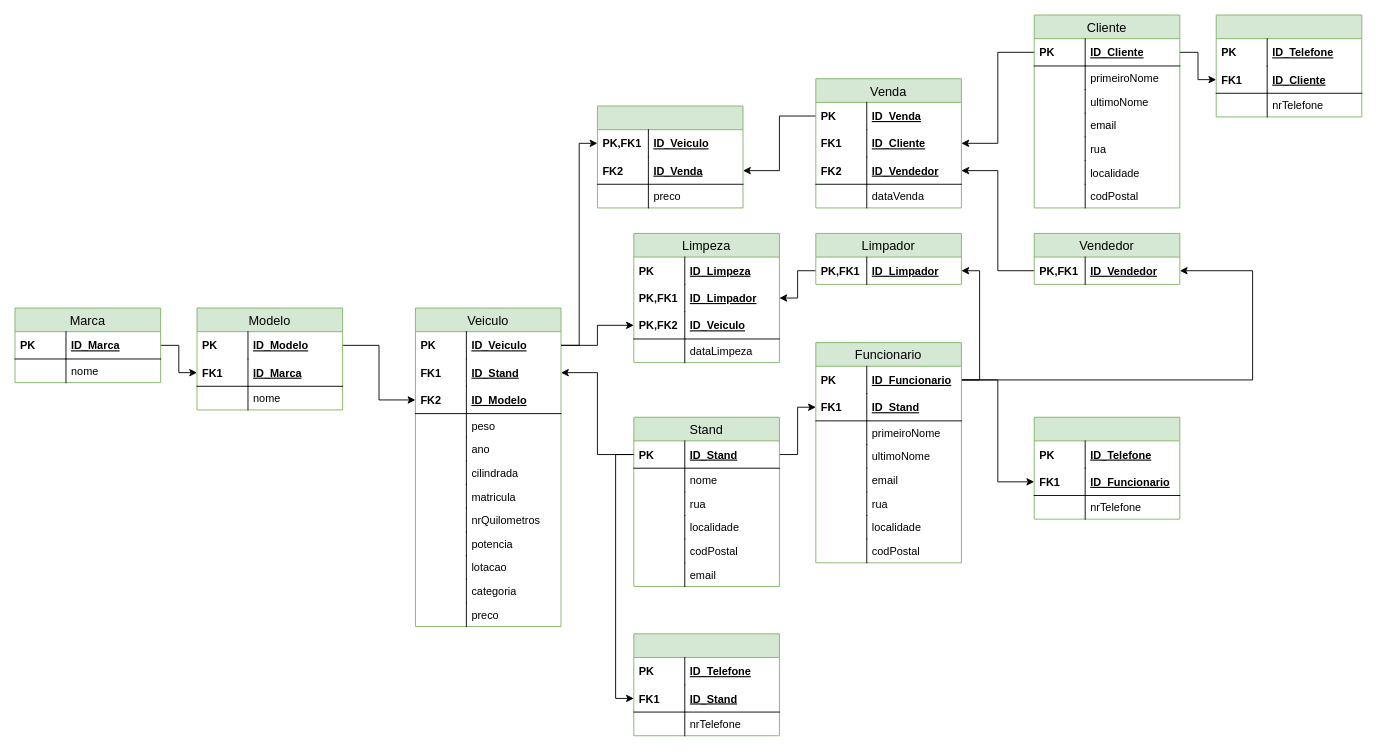
Image size: 1377x751. Some labels were removed from this diagram. Here are the shapes that lost their labels. From the top down, the box of each, then its label:
(1215, 14, 1362, 117): TelefonesCliente
(597, 105, 743, 208): VeiculosVenda
(1033, 416, 1180, 519): TelefonesFuncionario
(633, 633, 779, 736): TelefonesStand
